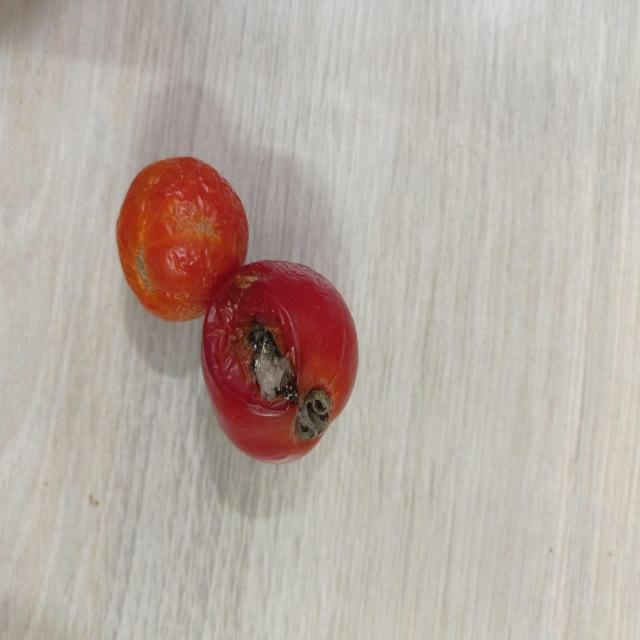Rotten: (198, 258, 359, 461)
